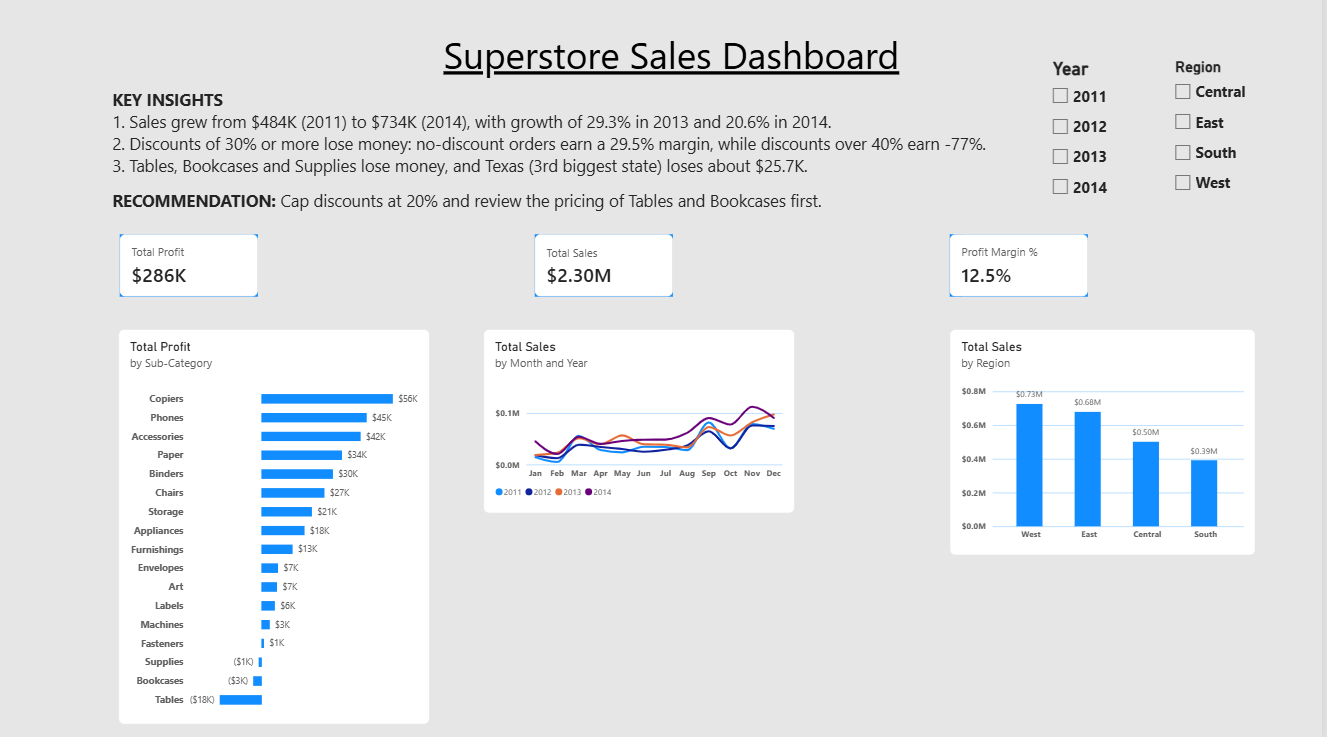

This screenshot's page, from the dashboard's own definition file:
{"tool":"powerbi","page":{"name":"Overview","canvas":[1920,1080],"ordinal":0},"visuals":[{"type":"cardVisual","fields":{"Data":["Sales.Total Sales"]},"box":[780,350,200,90],"z":0},{"type":"cardVisual","fields":{"Data":["Sales.Total Profit"]},"box":[180,350,200,90],"z":1000},{"type":"cardVisual","fields":{"Data":["Sales.Profit Margin %"]},"box":[1380,350,200,90],"z":2000},{"type":"textbox","box":[647.5,52.5,750,72.5],"z":3000},{"type":"clusteredColumnChart","fields":{"Category":["Sales.Region"],"Y":["Sales.Total Sales"]},"box":[1380,487.5,442.5,327.5],"z":4000},{"type":"lineChart","fields":{"Category":["Calendar.Month"],"Series":["Calendar.Year"],"Y":["Sales.Total Sales"]},"box":[705,487.5,450,266],"z":5000},{"type":"clusteredBarChart","fields":{"Category":["Products.Sub-Category"],"Y":["Sales.Total Profit"]},"box":[177.5,487.5,450,571.7],"z":6000},{"type":"slicer","fields":{"Values":["Calendar.Year"]},"box":[1522.5,95,195,220],"z":7000},{"type":"slicer","fields":{"Values":["Sales.Region"]},"box":[1700,95,202.7,229.8],"z":8000},{"type":"textbox","box":[167.5,137.5,1550,200],"z":9000}]}

Visuals, with their boxes in screenshot pixels (x1, y1, x2, y2), scaled from the page's 1920x1080 canvas onto the 1327x737 screenshot:
cardVisual - Sales.Total Sales: detection(539, 239, 677, 300)
cardVisual - Sales.Total Profit: detection(124, 239, 263, 300)
cardVisual - Sales.Profit Margin %: detection(954, 239, 1092, 300)
textbox: detection(448, 36, 966, 85)
clusteredColumnChart - Sales.Region x Sales.Total Sales: detection(954, 333, 1260, 556)
lineChart - Calendar.Month x Calendar.Year: detection(487, 333, 798, 514)
clusteredBarChart - Products.Sub-Category x Sales.Total Profit: detection(123, 333, 434, 723)
slicer - Calendar.Year: detection(1052, 65, 1187, 215)
slicer - Sales.Region: detection(1175, 65, 1315, 222)
textbox: detection(116, 94, 1187, 230)
